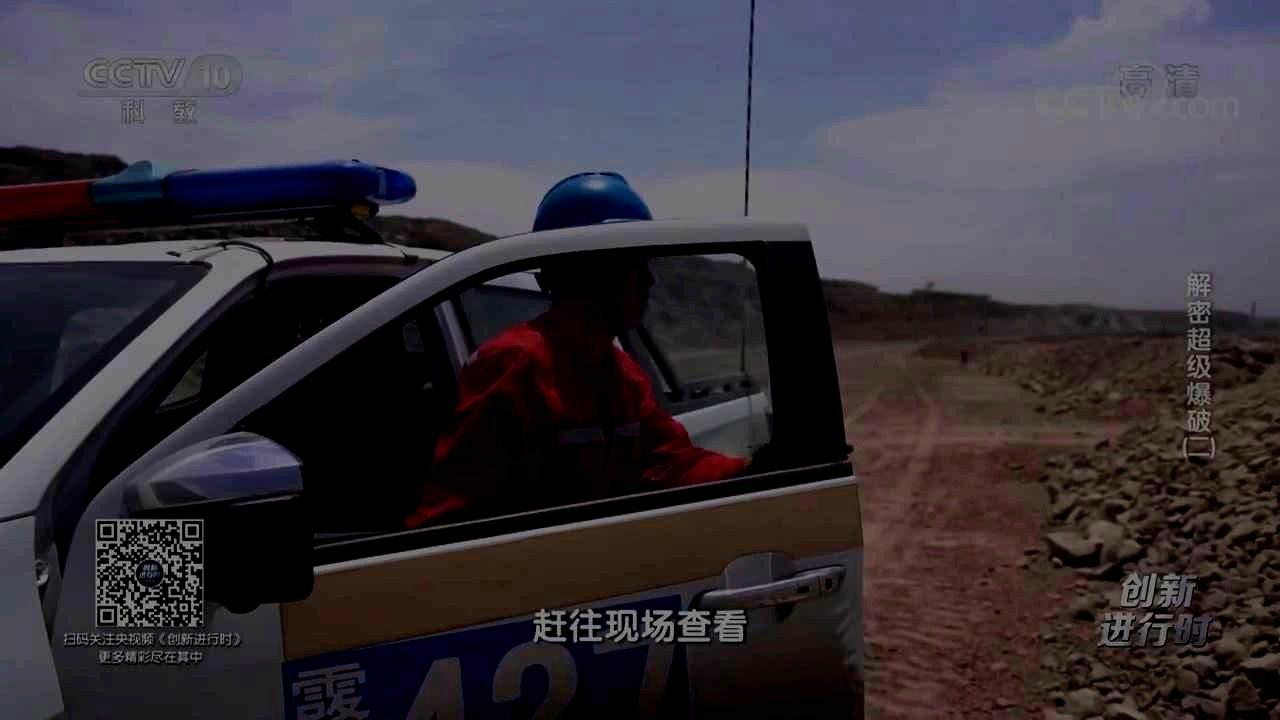helmet: (529, 169, 657, 328)
